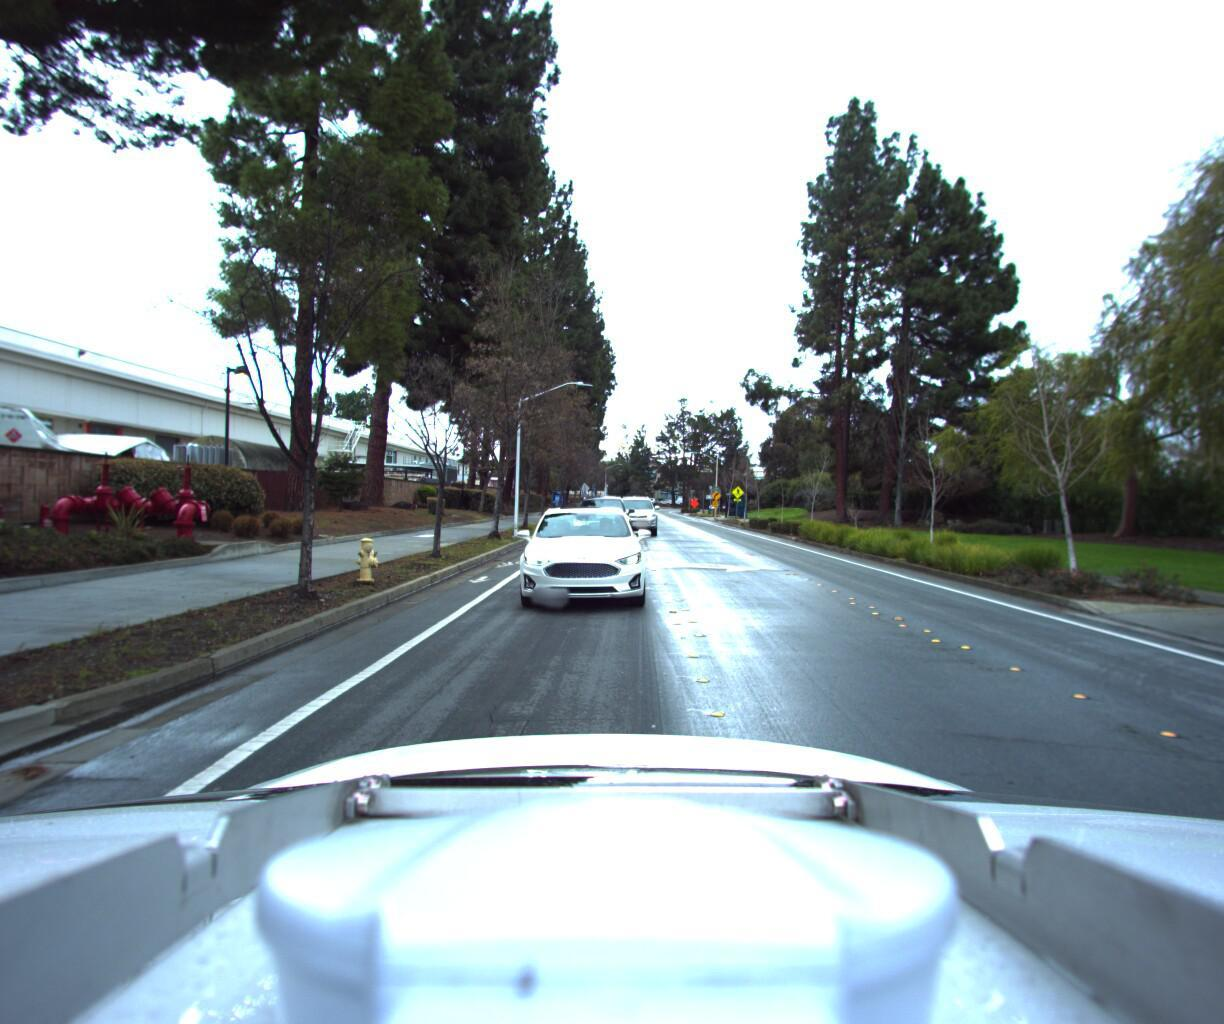car: (516, 498, 655, 618), (573, 494, 633, 549), (610, 496, 656, 540)
